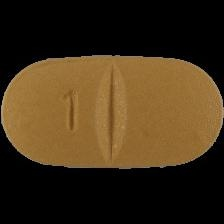62756-183: (0, 0, 224, 224)
